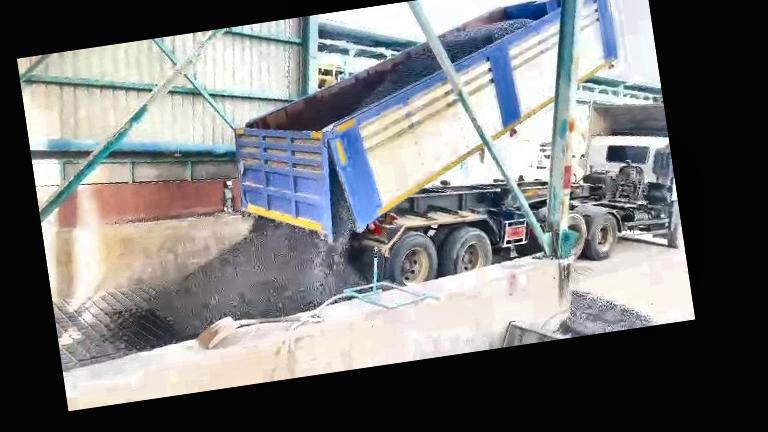gravel: (157, 218, 365, 331), (358, 46, 439, 109), (563, 290, 657, 336), (440, 18, 532, 62), (330, 170, 354, 243)
